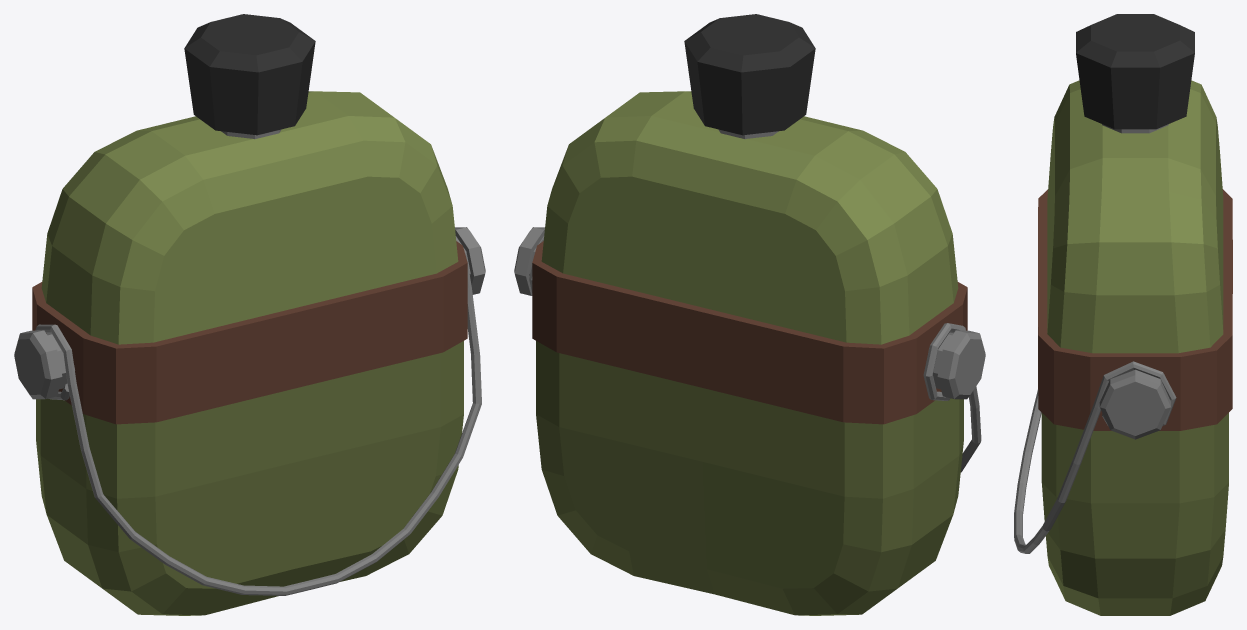
The model's file is Canteen.fbx.
3 views of the same model, side by side, from view 1: azimuth 30°, elevation 25°; view 2: azimuth 150°, elevation 25°; view 3: azimuth 270°, elevation 25° (orthographic). The views are drawn at different scales.
Visible parts, largest first — view 1: Canteen (Bottle), Canteen Support; view 2: Canteen (Bottle), Canteen Support; view 3: Canteen (Bottle), Canteen Support.
Part boxes in pixels (<box>): Canteen (Bottle): <box>32,14,467,615</box>; Canteen Support: <box>14,227,485,595</box>; Canteen (Bottle): <box>532,14,967,615</box>; Canteen Support: <box>514,227,985,472</box>; Canteen (Bottle): <box>1038,14,1232,615</box>; Canteen Support: <box>1014,361,1176,553</box>.
Bounding box in the file's own units: 69.37 × 82.5 × 30.62.
